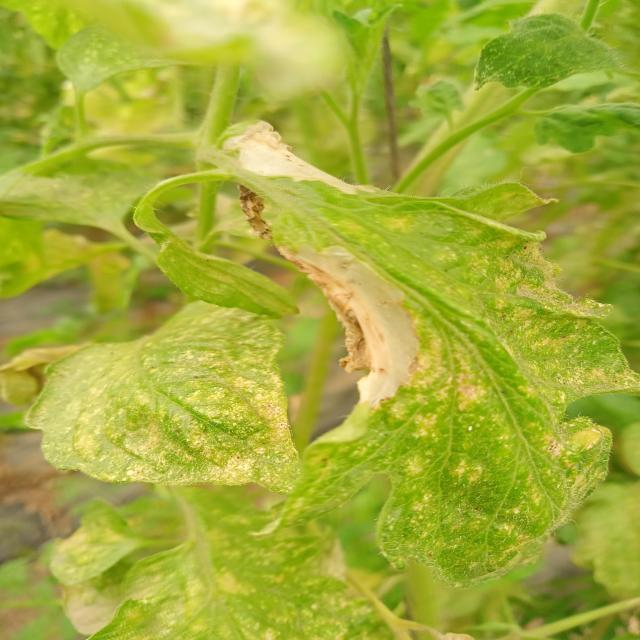Tuta absoluta: (277, 206, 444, 414), (218, 110, 377, 229)
